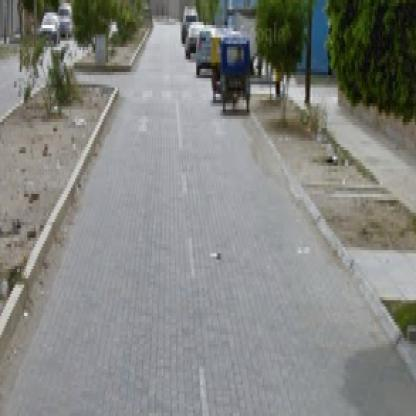Pista: (2, 17, 413, 411)
Vehiculo: (221, 35, 252, 117), (211, 32, 235, 107)
